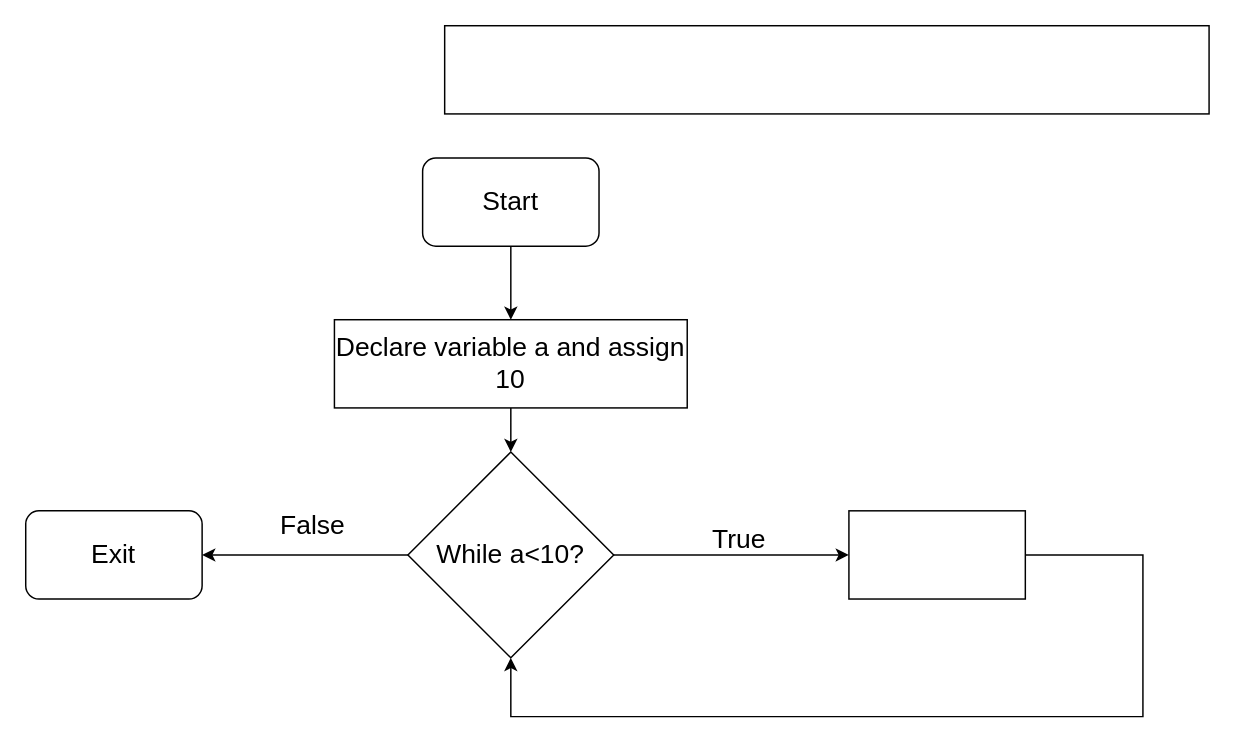
Image size: 1235x754. Some labels were removed from this diagram. The box of each missing label's shape, as (x1, y1, x2, y2) in pixels:
Flow Chart of While Loop: (443, 24, 1209, 114)
Print value of a: (847, 509, 1025, 599)
